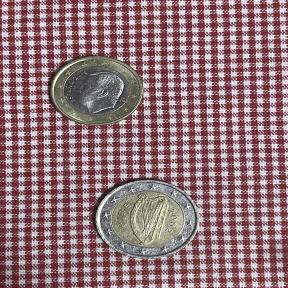1 Euro-B: (46, 52, 147, 130)
2 Euro-B: (90, 176, 203, 265)
